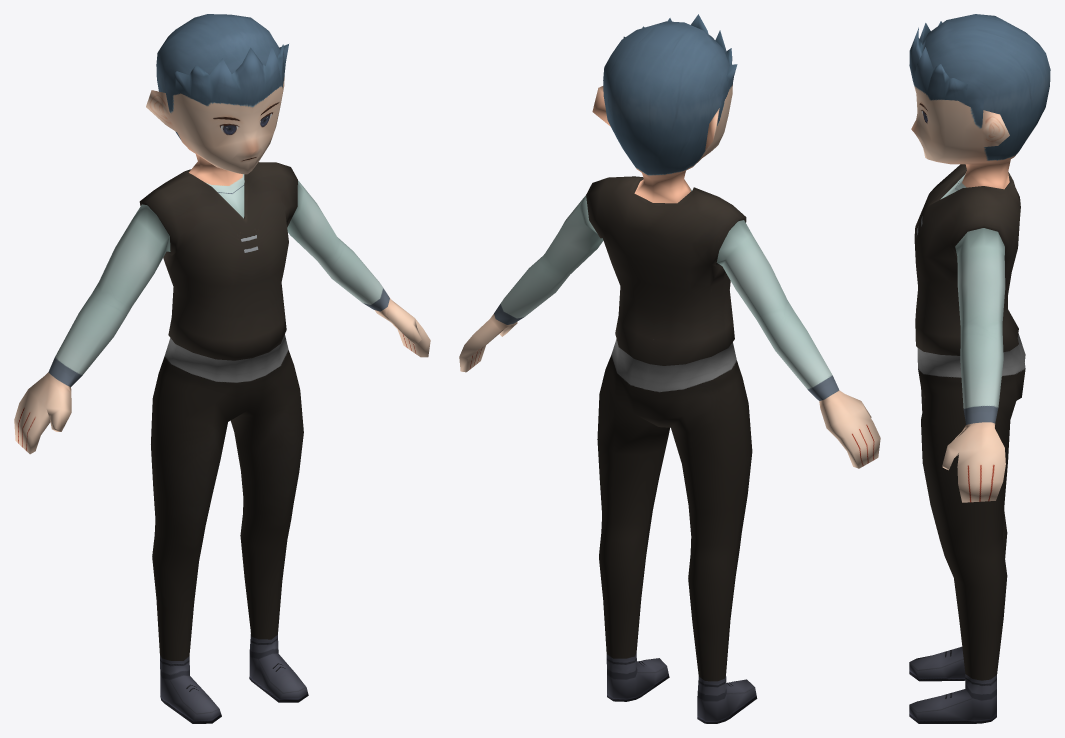
The picture shows the model from 3 angles, left to right: view 1: azimuth 30°, elevation 25°; view 2: azimuth 150°, elevation 25°; view 3: azimuth 270°, elevation 25°; orthographic projection.
Visible parts, largest first — view 1: Peasant Taren; view 2: Peasant Taren; view 3: Peasant Taren.
Boxes of the visible parts, box(x1,y1,x2,y2) form: Peasant Taren: box(14, 14, 430, 723); Peasant Taren: box(459, 14, 880, 723); Peasant Taren: box(909, 14, 1050, 723).
Bounding box in the file's own units: 133 × 213 × 40.28.
